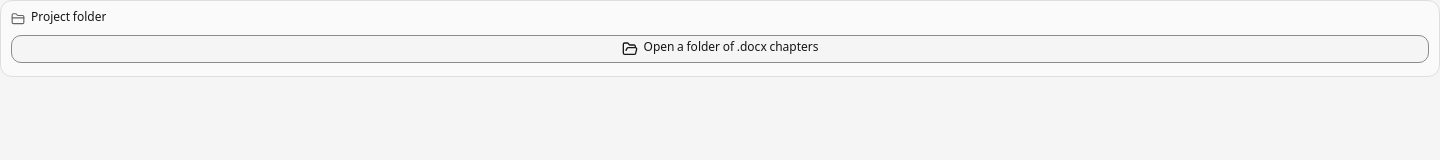
it: ProjectFolderSection › surfaces a warning when a chapter changes outside the app
Later steps or results of the test are not shown.
Step 1. Click the button "Open a folder of .docx chapters" → point(720, 49), box [11,35,1429,63]
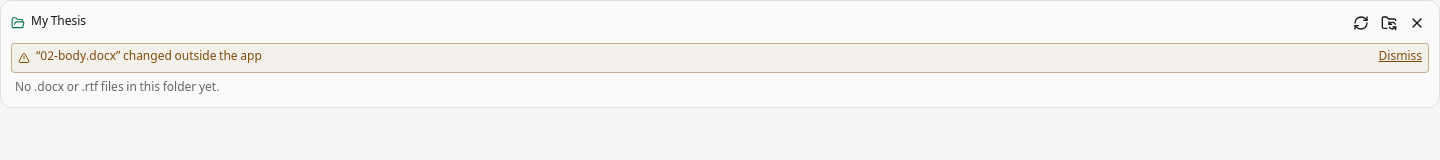
Now the text "“02-body.docx” changed outside the app" is shown, box [36,47,262,68]
